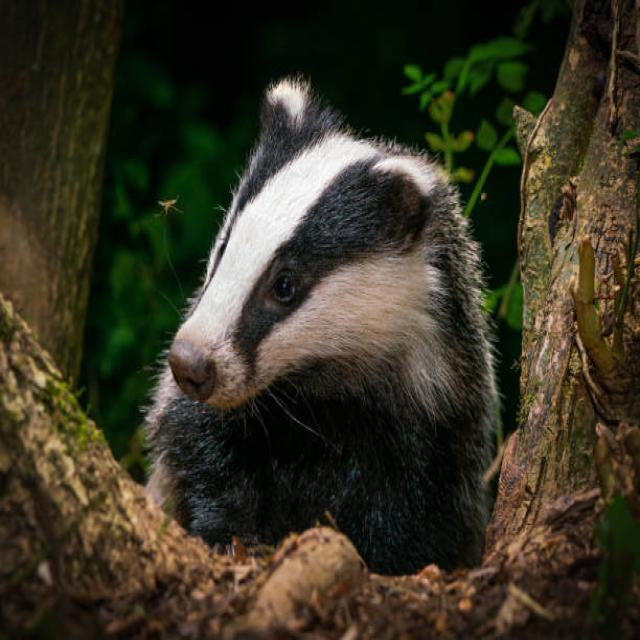Badger: (153, 88, 495, 580)
